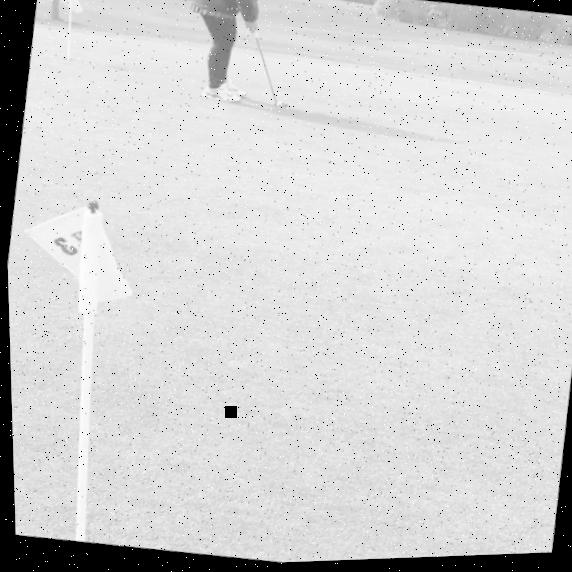ClubHead: (273, 103, 287, 109)
GolfBall: (277, 103, 283, 109)
